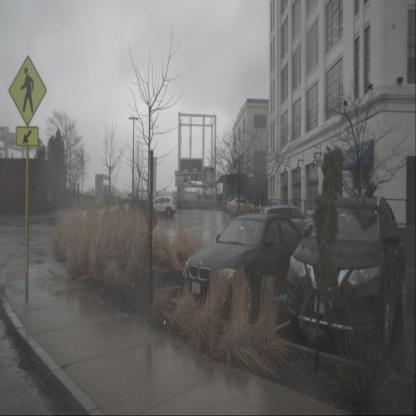human-pedestrian-adult: (365, 182, 375, 222)
vehicle-car: (286, 195, 406, 346), (182, 213, 314, 318), (102, 198, 158, 238), (258, 204, 319, 240), (143, 196, 177, 217), (227, 198, 256, 216), (226, 195, 252, 212)
